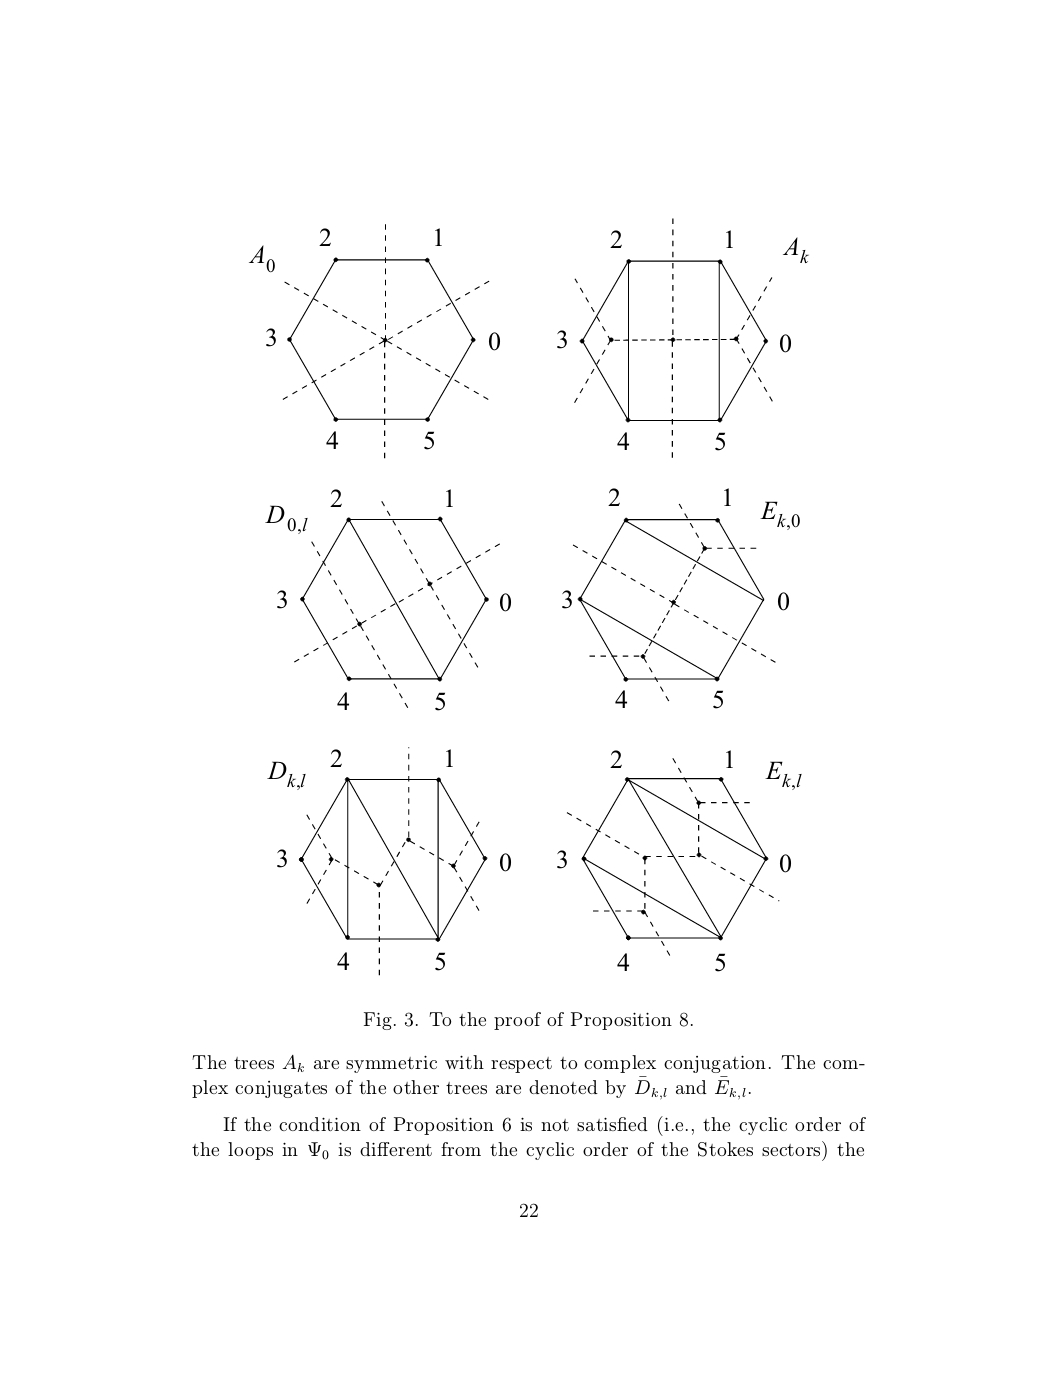figure: (557, 218, 808, 457), (249, 224, 499, 458), (267, 747, 510, 975), (265, 489, 510, 710), (557, 750, 801, 971), (562, 488, 799, 708)
